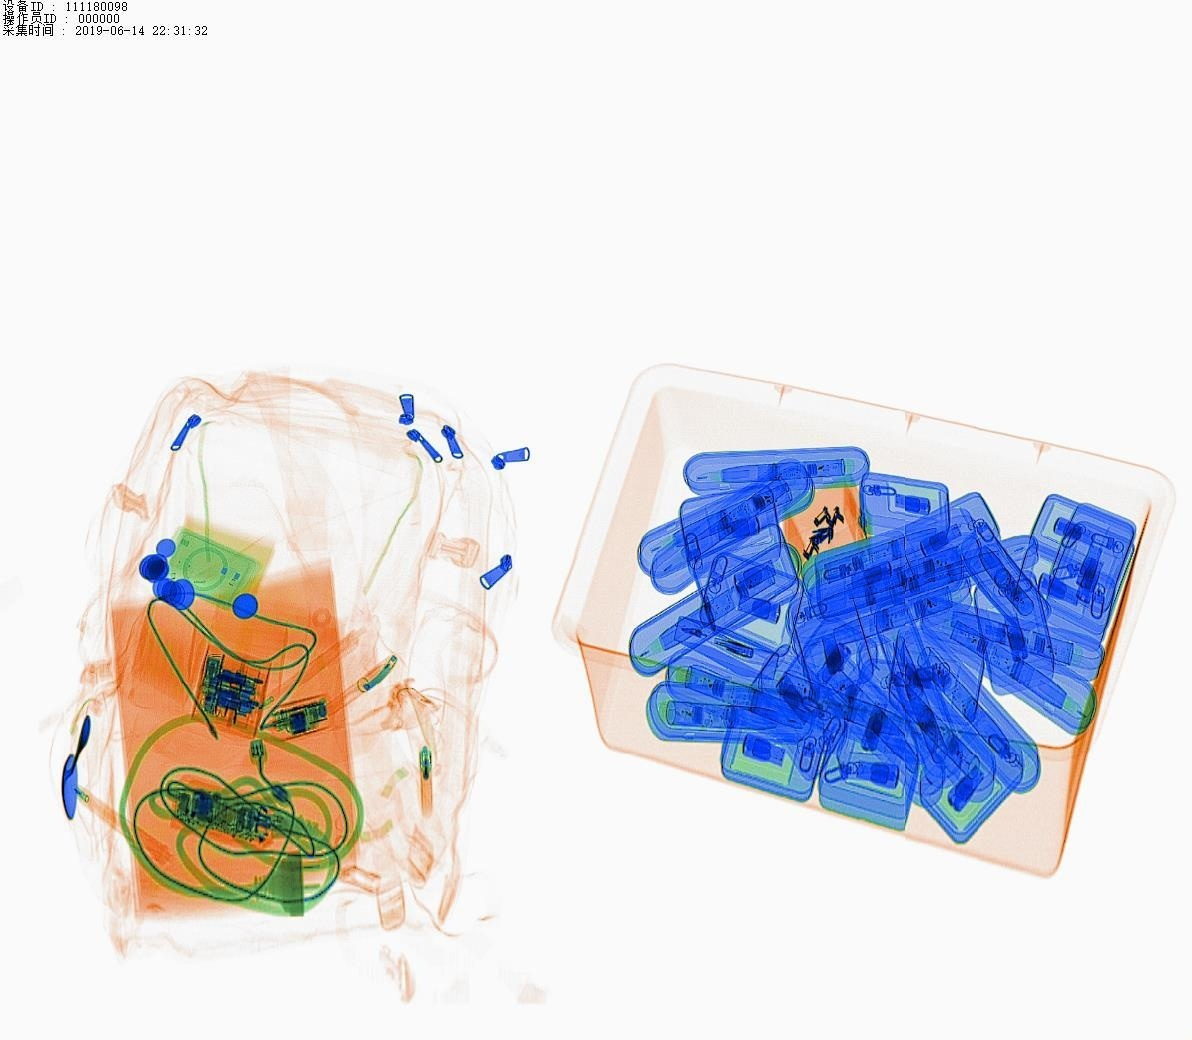NonmetallicFire: (408, 725, 452, 826)
